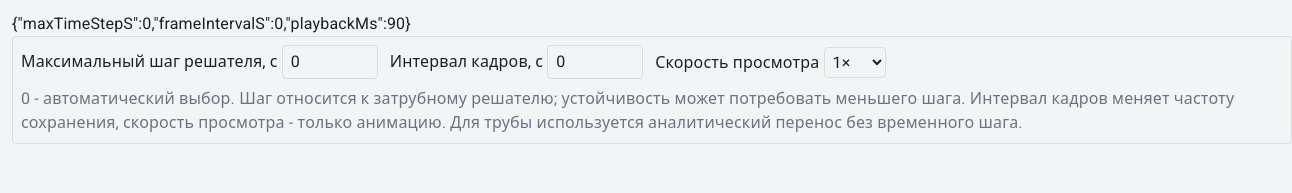
keeps the physical cap, sampling interval and playback separate, and shows invalid input
This screenshot has width=1292, height=193.
Replace the text in the number field labelled "Максимальный шаг решателя, с" with "2" at (330, 62), box [282,45,378,79]
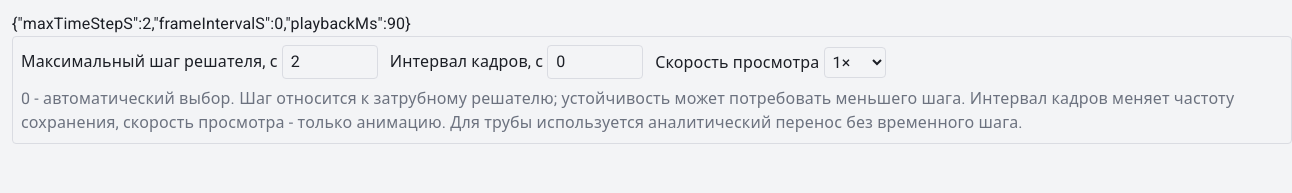
Replace the text in the number field labelled "Интервал кадров, с" with "15" at (595, 62), box [547,45,643,79]
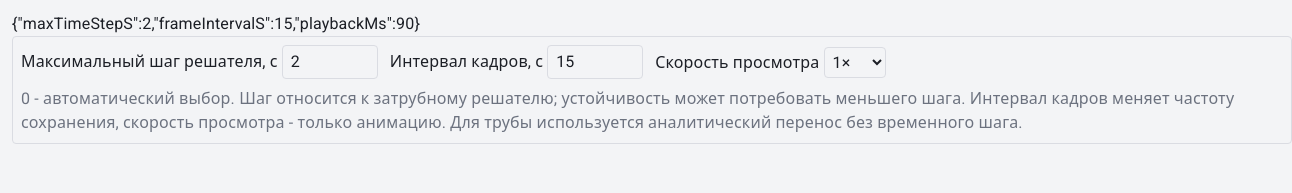
Select "2×" in the dropdown labelled "Скорость просмотра" at (854, 62), box [824,46,886,78]
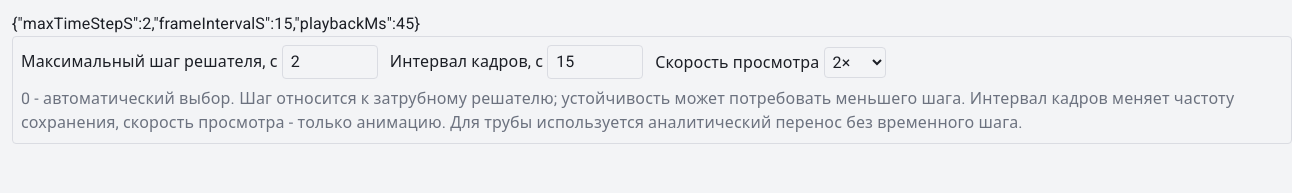
Replace the text in the number field labelled "Максимальный шаг решателя, с" with ".001" at (330, 62), box [282,45,378,79]
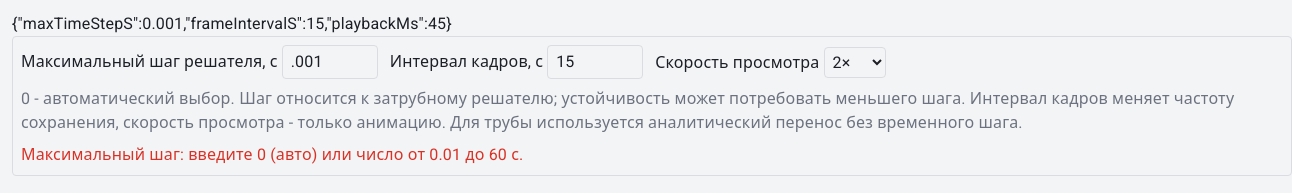
Check: the message shows "Максимальный шаг", box [21,145,523,164]
